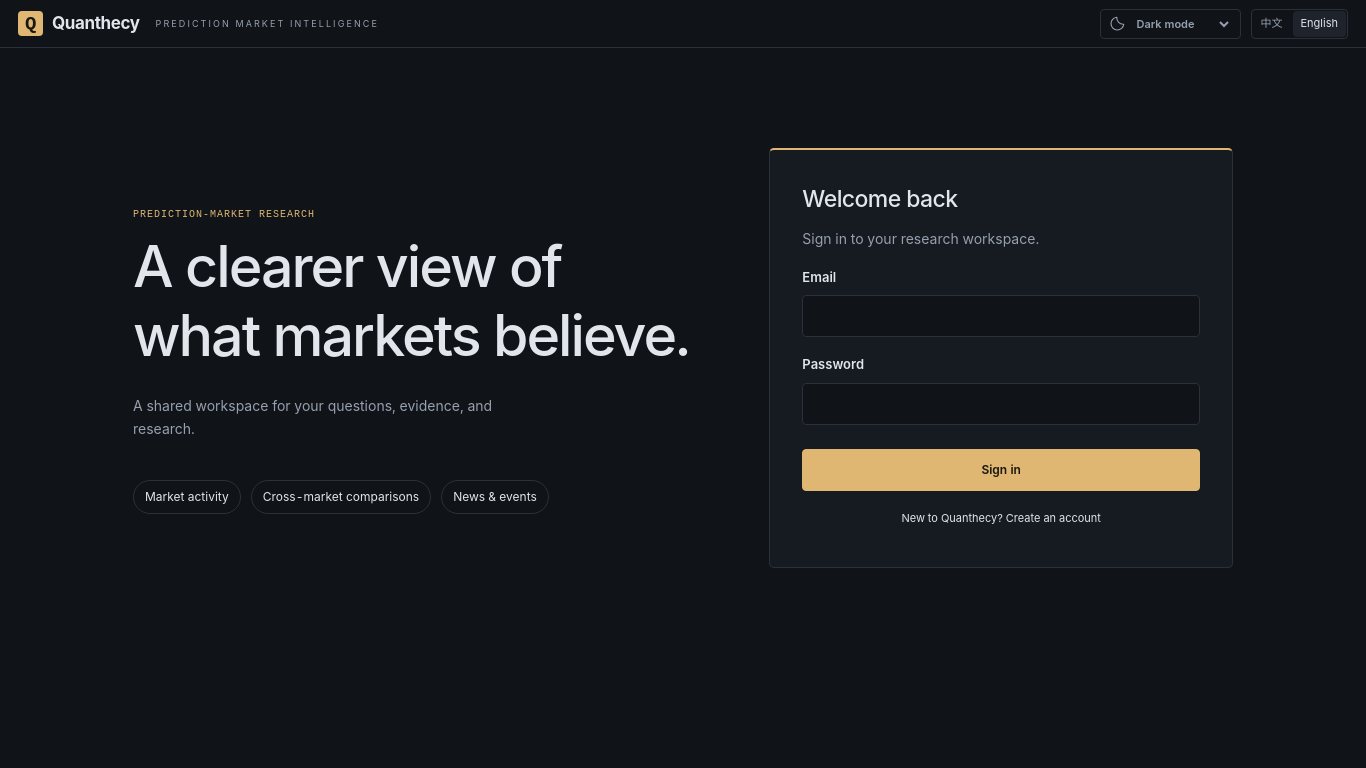
Test: shows login for an anonymous session and allows switching to registration
Check: the heading "Welcome back" is shown, box [802,185,958,213]
Click the button "New to Quanthecy? Create an account" at (1001, 519), box [802,503,1200,535]
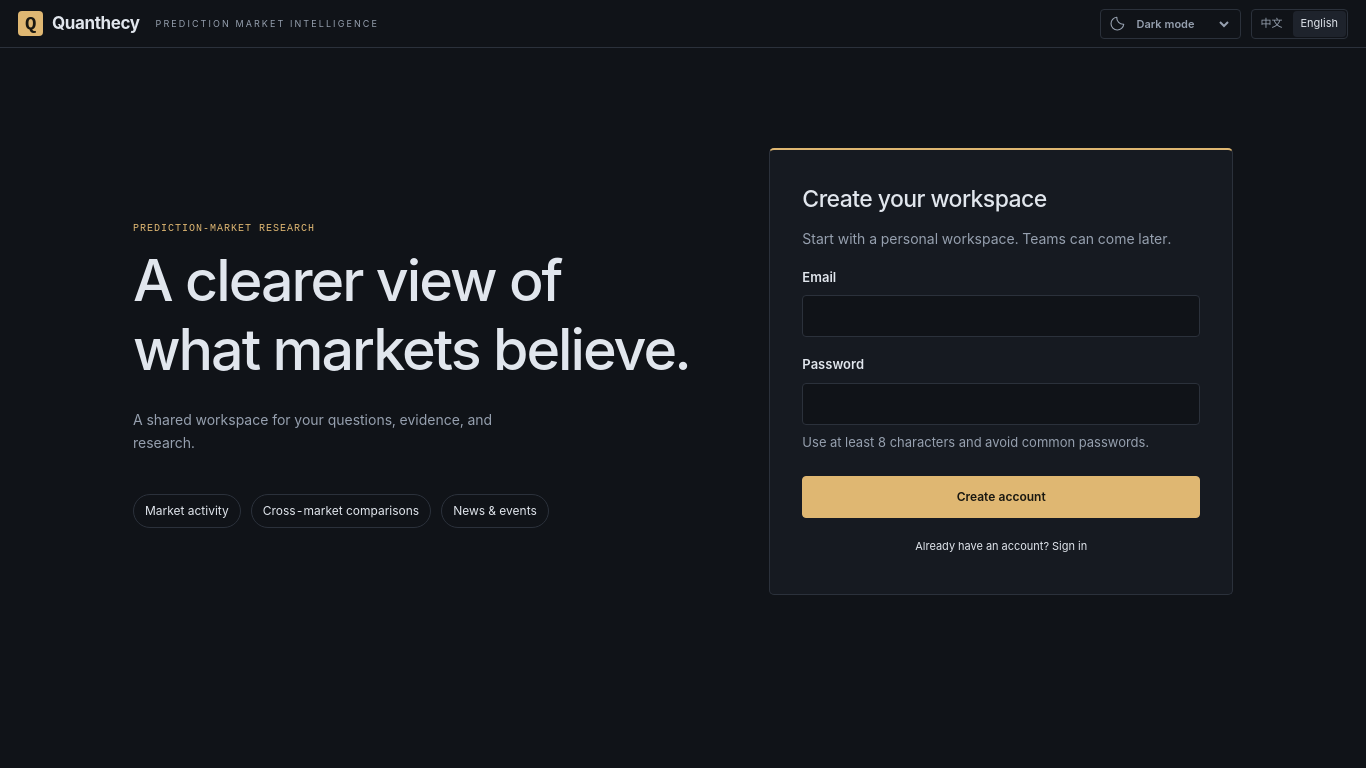
Check: the heading "Create your workspace" is shown, box [802,185,1047,213]
